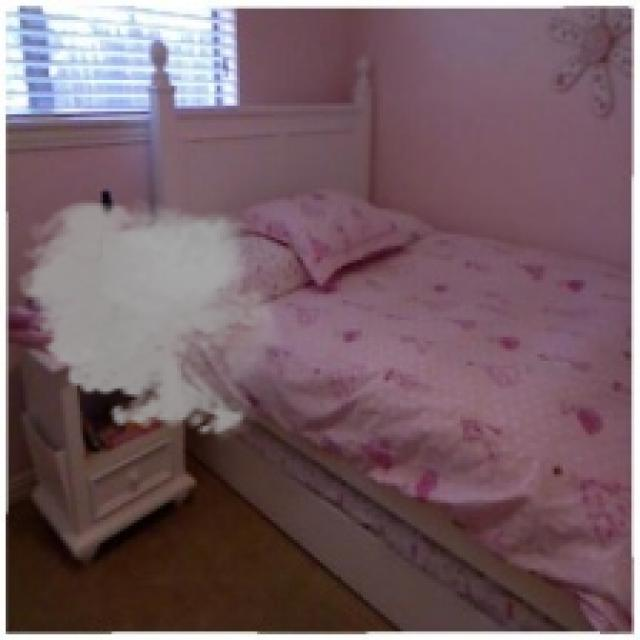smoke: (8, 191, 292, 443)
